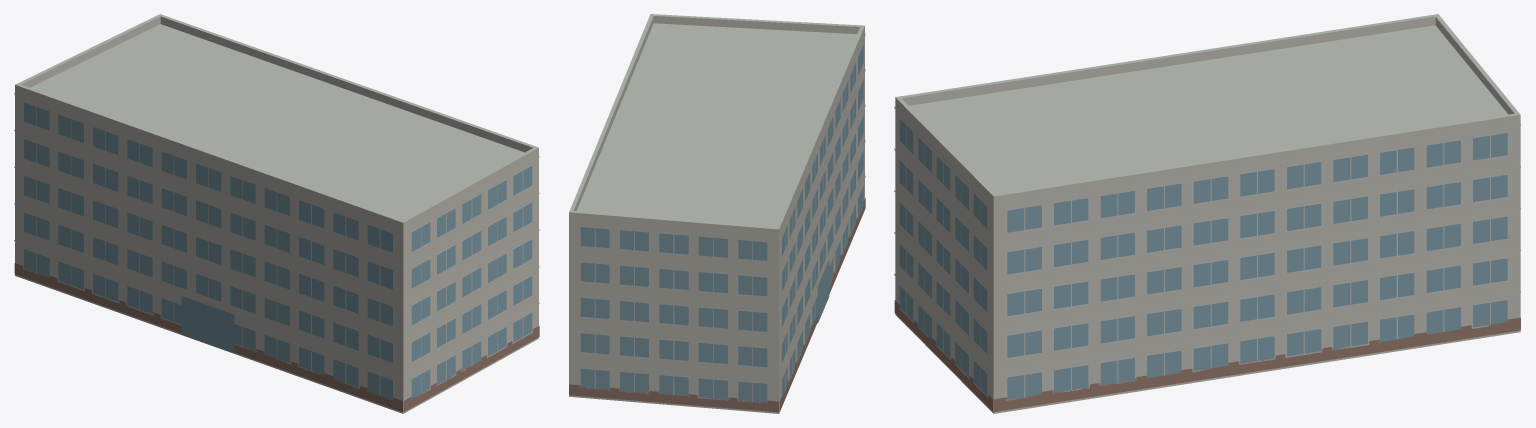
Rendered from public-185203b5-c0ba-408d-af3a-59f26c53ecef.glb.
The picture shows the model from 3 angles, left to right: view 1: azimuth 30°, elevation 25°; view 2: azimuth 150°, elevation 25°; view 3: azimuth 270°, elevation 25°; orthographic projection. The views are drawn at different scales.
Visible parts, largest first — view 1: public-185203b5-c0ba-408d-af3a-59f26c53ecef; view 2: public-185203b5-c0ba-408d-af3a-59f26c53ecef; view 3: public-185203b5-c0ba-408d-af3a-59f26c53ecef.
Boxes of the visible parts, x1=… form: public-185203b5-c0ba-408d-af3a-59f26c53ecef: x1=14, y1=14, x2=539, y2=413; public-185203b5-c0ba-408d-af3a-59f26c53ecef: x1=569, y1=14, x2=865, y2=413; public-185203b5-c0ba-408d-af3a-59f26c53ecef: x1=894, y1=14, x2=1520, y2=413.
Bounding box in the file's own units: 27.58 × 15.25 × 39.88.
